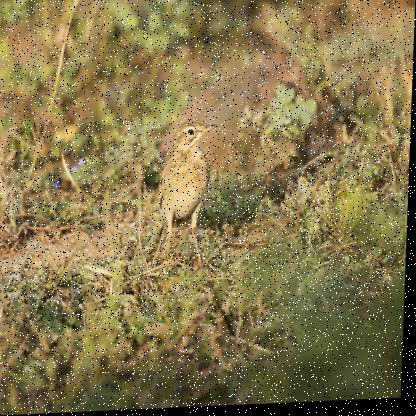Burung: (156, 114, 230, 267)
